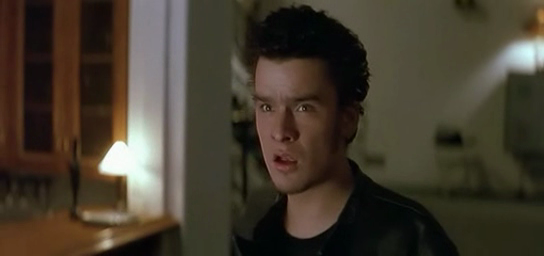cu: (1, 1, 544, 256)
face: (251, 59, 334, 195)
person: (242, 4, 462, 256)
